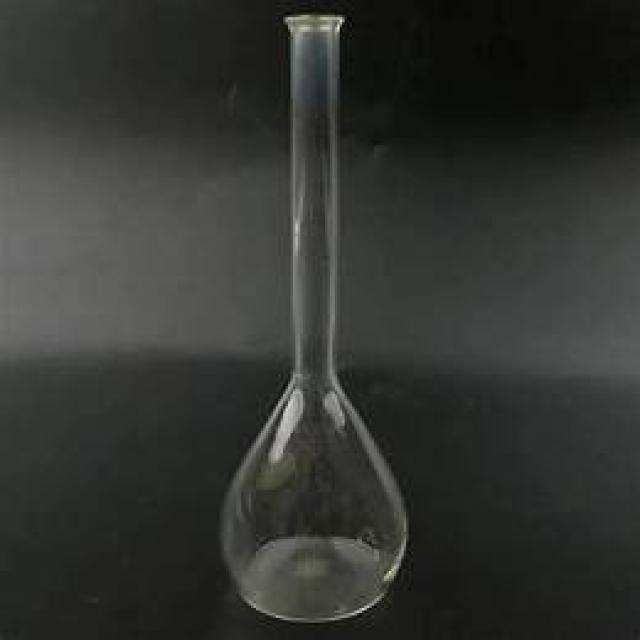Volumetric flask: (206, 10, 410, 617)
